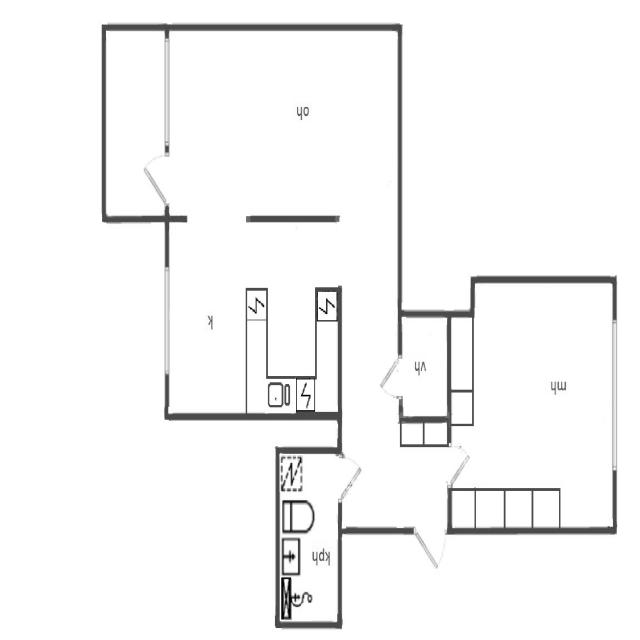door: (141, 147, 173, 210), (412, 521, 448, 571), (337, 449, 366, 503), (446, 439, 474, 493), (378, 354, 406, 405)
window: (606, 315, 620, 479), (158, 31, 175, 150), (159, 264, 174, 384)
zone: (162, 29, 404, 220), (456, 279, 618, 528), (163, 217, 339, 418), (279, 442, 341, 624), (400, 312, 449, 424)
